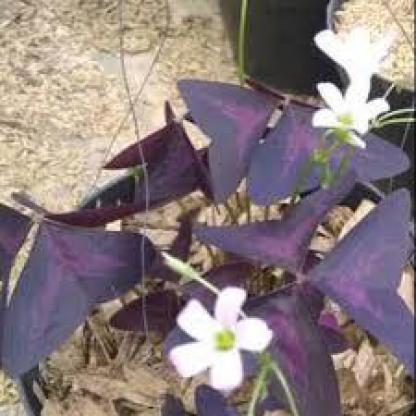Kupu-Kupu: (199, 217, 415, 415), (143, 73, 395, 204), (7, 204, 147, 380)
